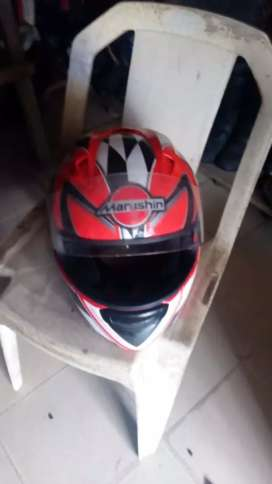with_helmet: (47, 122, 210, 354)
